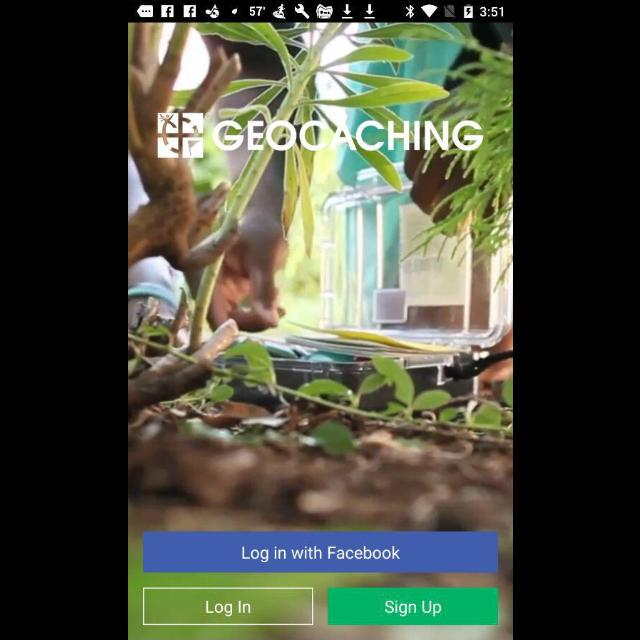backgroundimage: (128, 24, 512, 640)
image: (157, 112, 483, 160)
textbutton: (142, 531, 498, 573), (142, 586, 314, 626), (327, 587, 498, 625)
uppertaskbar: (128, 1, 512, 23)
